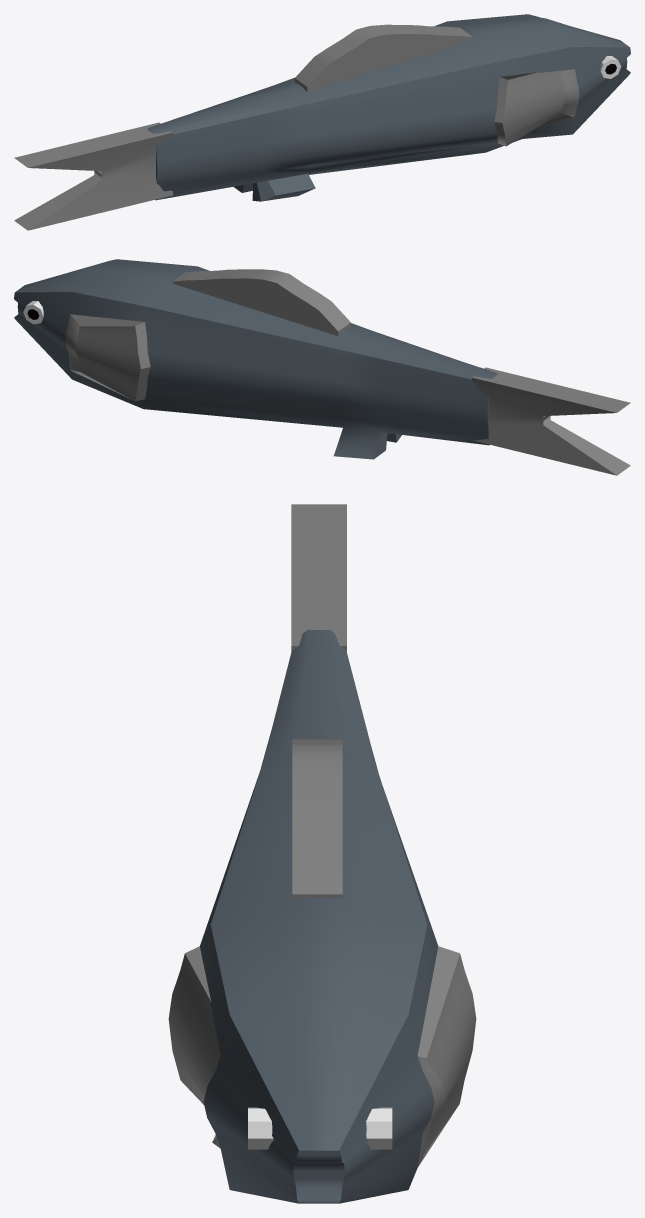
File: FishA.fbx
The picture shows the model from 3 angles, top to bottom: view 1: azimuth 30°, elevation 25°; view 2: azimuth 150°, elevation 25°; view 3: azimuth 270°, elevation 25°; orthographic projection. The views are drawn at different scales.
Parts seen in each view (by area): view 1: pCube211; view 2: pCube211; view 3: pCube211.
Boxes of the visible parts, x1,y1,x2,y2 form: pCube211: (14, 14, 630, 230); pCube211: (14, 259, 630, 475); pCube211: (168, 504, 476, 1203).
Size of the model in its own units: 0.7675 by 0.1713 by 0.1693.
